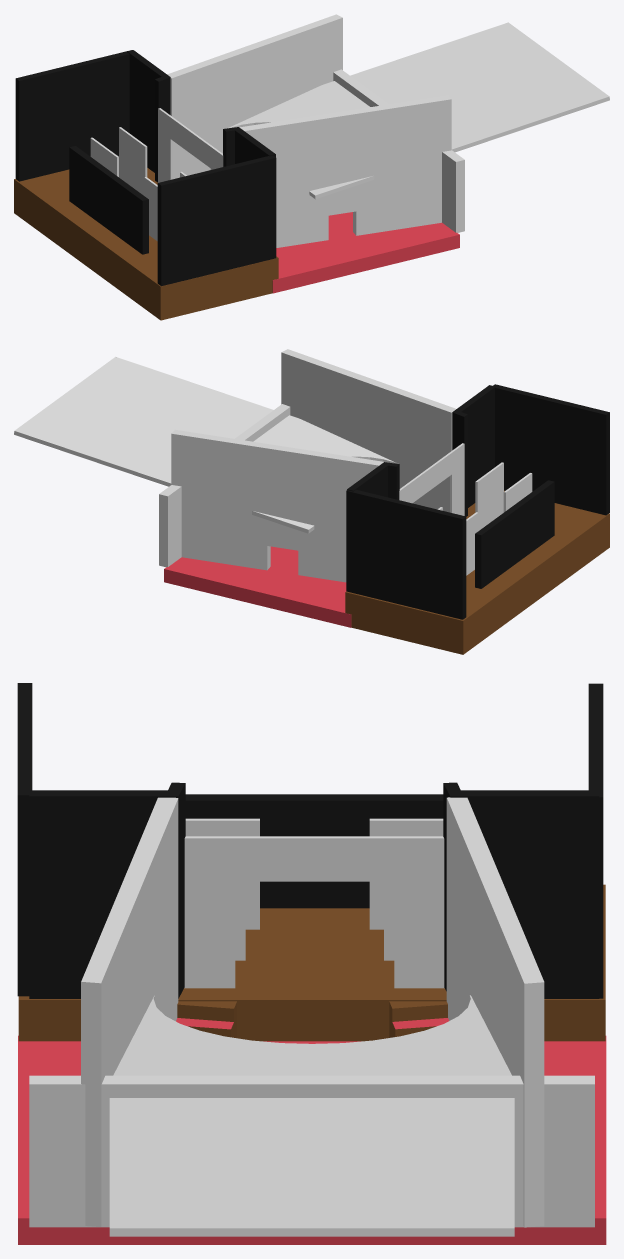
Rendered from Level.fbx.
3 renders of one model, top to bottom at view 1: azimuth 30°, elevation 25°; view 2: azimuth 150°, elevation 25°; view 3: azimuth 270°, elevation 25°, orthographic. The views are drawn at different scales.
Visible parts, largest first — view 1: Cube.001, Cube.002, Cube, Stage Wall, Stage Floor, stage Wall, Floor, Stage Wall back.001, stage Wall.003, Cube.003, Portal 1, Portal 1.001 (+2 smaller); view 2: Cube, Cube.002, Cube.001, stage Wall, Stage Floor, Stage Wall, Floor, Stage Wall back.001, stage Wall.002, Cube.003, Portal 1, Portal 1.001 (+2 smaller); view 3: Cube.002, Cube.003, Stage Floor, Portal 1, Cube, stage Wall.002, stage Wall.003, Cube.001, Floor, Stage Wall back.001, Stage Wall, Portal 1.002 (+4 smaller).
Boxes of the visible parts, bbox=[...] form: Cube.001: bbox=[239, 95, 451, 247]; Cube.002: bbox=[228, 22, 609, 199]; Cube: bbox=[167, 14, 342, 179]; Stage Wall: bbox=[157, 155, 276, 286]; Stage Floor: bbox=[14, 168, 278, 320]; stage Wall: bbox=[15, 50, 131, 181]; Floor: bbox=[272, 212, 459, 293]; Stage Wall back.001: bbox=[69, 146, 148, 254]; stage Wall.003: bbox=[127, 50, 170, 182]; Cube.003: bbox=[333, 69, 464, 232]; Portal 1: bbox=[158, 108, 223, 182]; Portal 1.001: bbox=[119, 127, 186, 195]; Cube: bbox=[171, 429, 383, 582]; Cube.002: bbox=[14, 356, 398, 533]; Cube.001: bbox=[281, 349, 455, 512]; stage Wall: bbox=[346, 489, 466, 619]; Stage Floor: bbox=[345, 490, 609, 654]; Stage Wall: bbox=[493, 384, 609, 515]; Floor: bbox=[164, 546, 351, 627]; Stage Wall back.001: bbox=[475, 480, 554, 588]; stage Wall.002: bbox=[452, 385, 495, 516]; Cube.003: bbox=[159, 404, 290, 567]; Portal 1: bbox=[399, 443, 464, 515]; Portal 1.001: bbox=[437, 462, 503, 530]; Cube.002: bbox=[109, 995, 514, 1236]; Cube.003: bbox=[29, 1075, 594, 1227]; Stage Floor: bbox=[18, 884, 605, 1041]; Portal 1: bbox=[184, 836, 444, 988]; Cube: bbox=[446, 797, 544, 1227]; stage Wall.002: bbox=[29, 782, 185, 998]; stage Wall.003: bbox=[443, 782, 599, 998]; Cube.001: bbox=[81, 797, 178, 1226]; Floor: bbox=[18, 1035, 606, 1244]; Stage Wall back.001: bbox=[185, 794, 443, 908]; Stage Wall: bbox=[17, 683, 32, 996]; Portal 1.002: bbox=[185, 818, 443, 929].
Bounding box in the file's own units: 7412 × 2039 × 4003.
